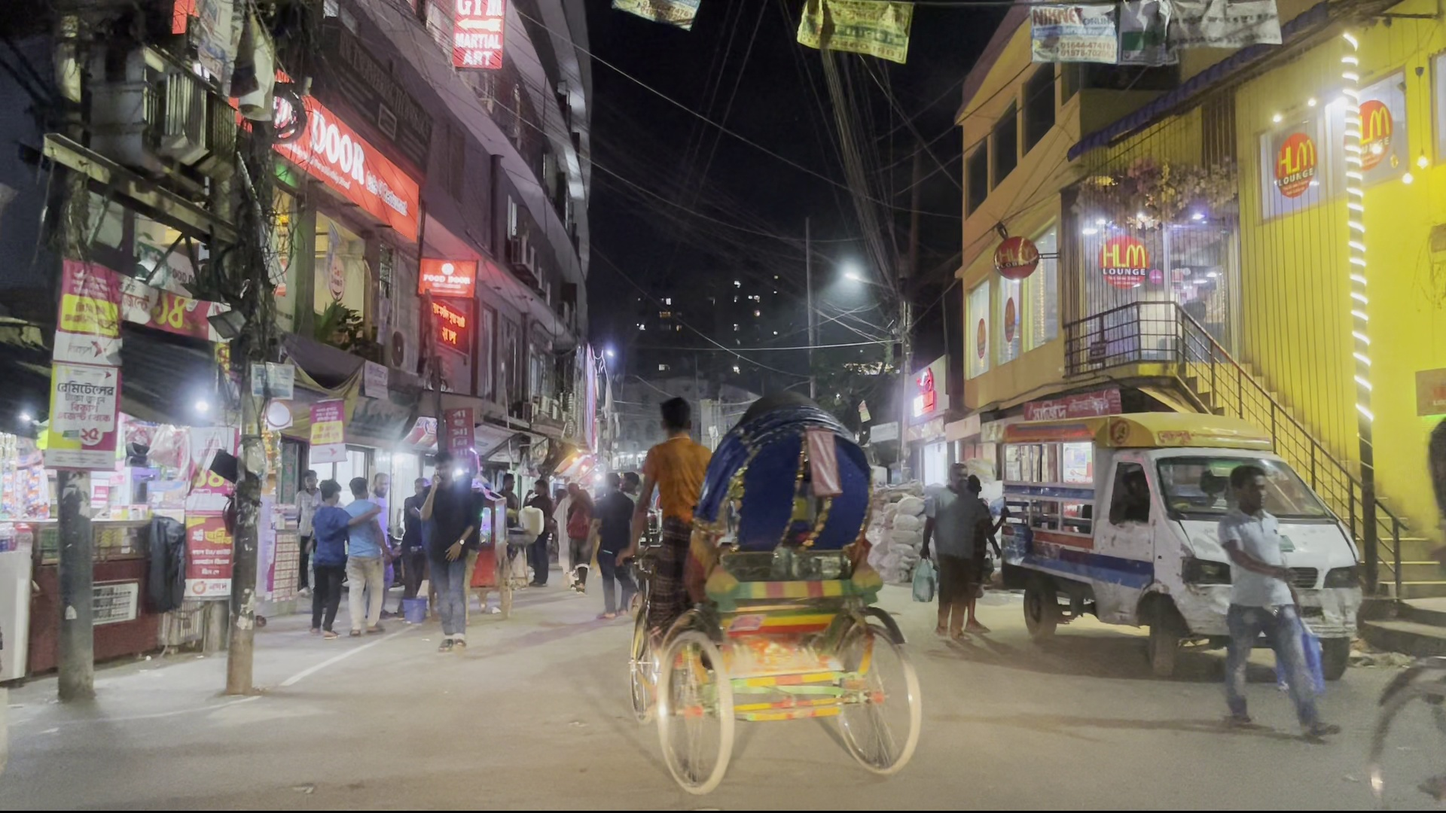car: (966, 401, 1387, 681)
person: (1216, 455, 1337, 757), (917, 453, 984, 648), (416, 450, 471, 655), (343, 473, 394, 638), (593, 469, 640, 626), (307, 475, 349, 637), (292, 465, 324, 595), (565, 486, 602, 594)
